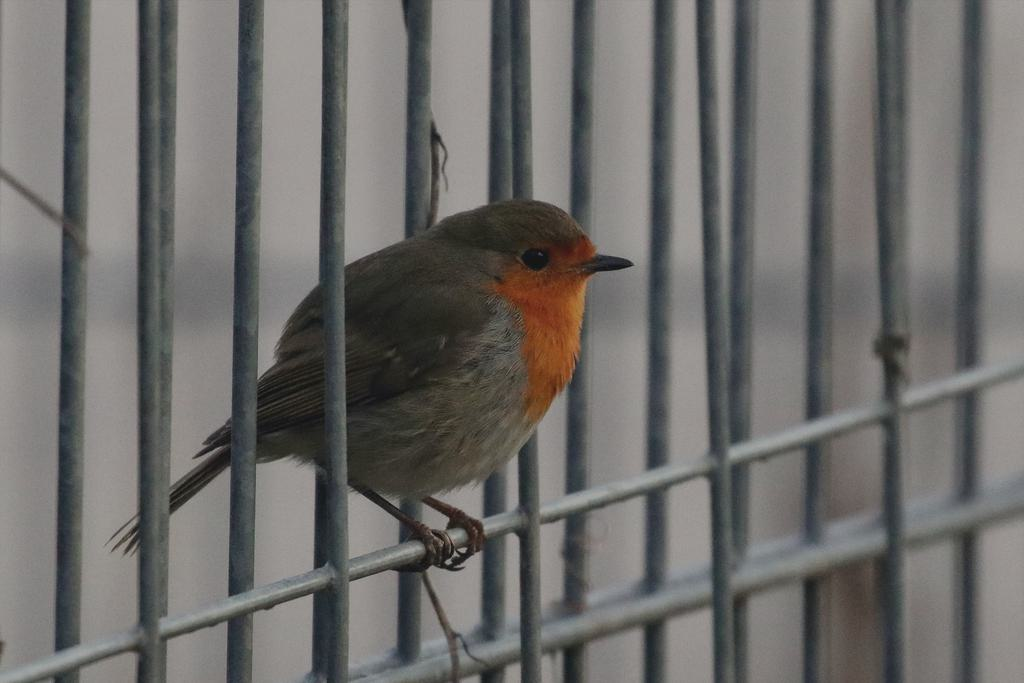ErithacusRubecula: (101, 198, 634, 572)
